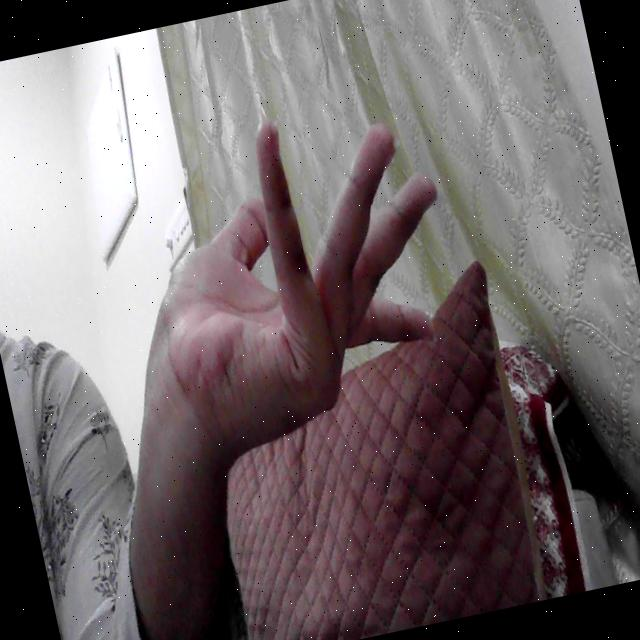Alapadma: (110, 67, 499, 490)
